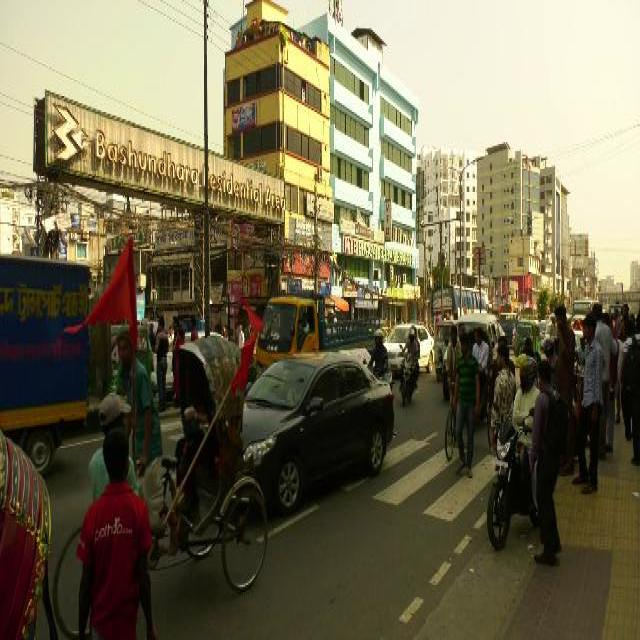bus: (428, 282, 494, 322)
car: (228, 350, 398, 518)
motorbike: (480, 397, 534, 552), (394, 342, 420, 412)
pickup: (254, 286, 380, 372)
rickshaw: (52, 332, 270, 636)
three wheelers -CNG-: (430, 319, 450, 381), (514, 318, 536, 358)
